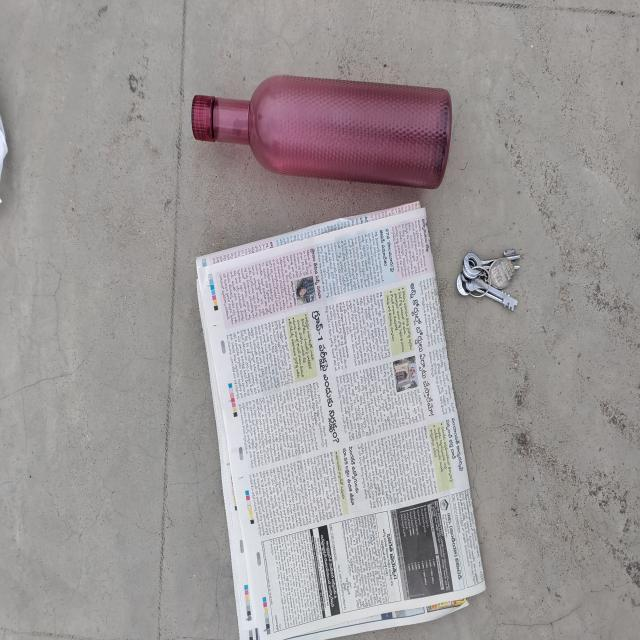metal: (457, 250, 522, 312)
paper: (193, 200, 458, 640)
plastic: (190, 74, 450, 187)
